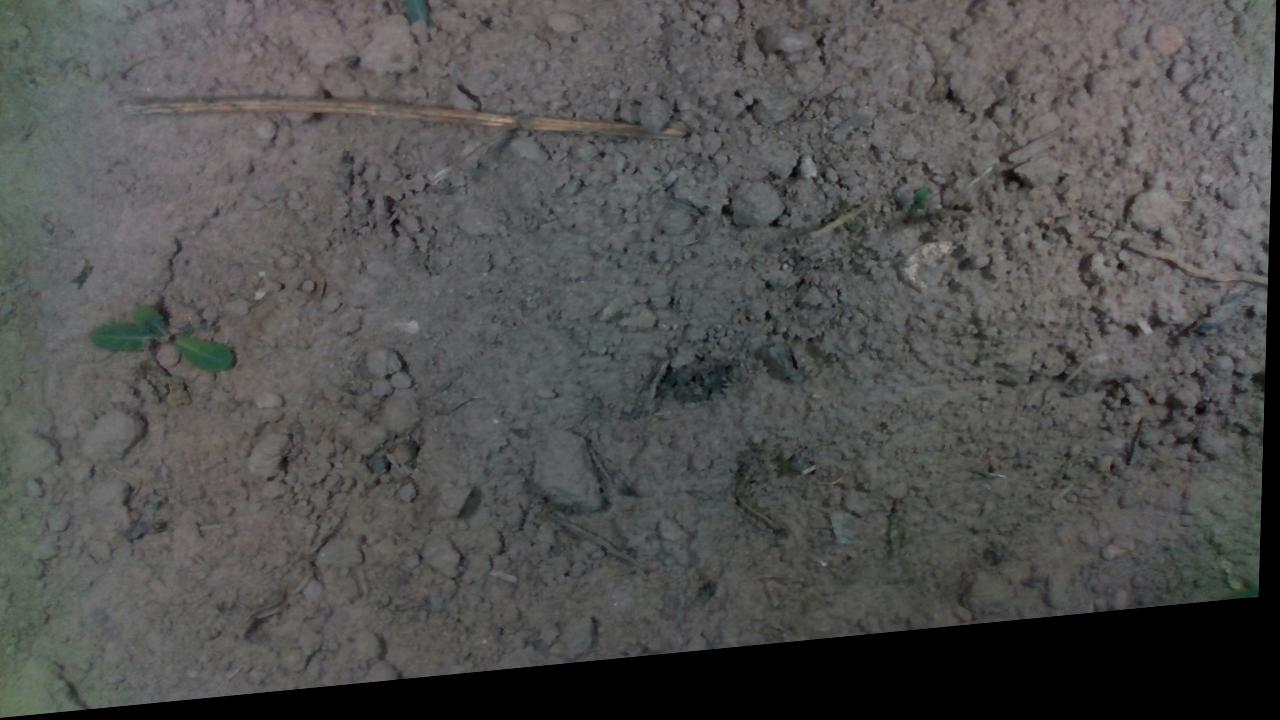weed: (86, 296, 239, 387)
